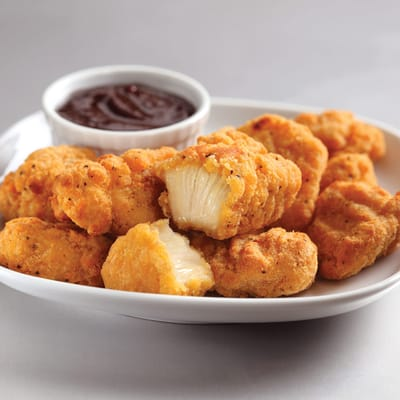sushi: (1, 67, 397, 398), (40, 63, 212, 153)
